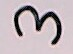sum: (2, 2, 68, 52)
